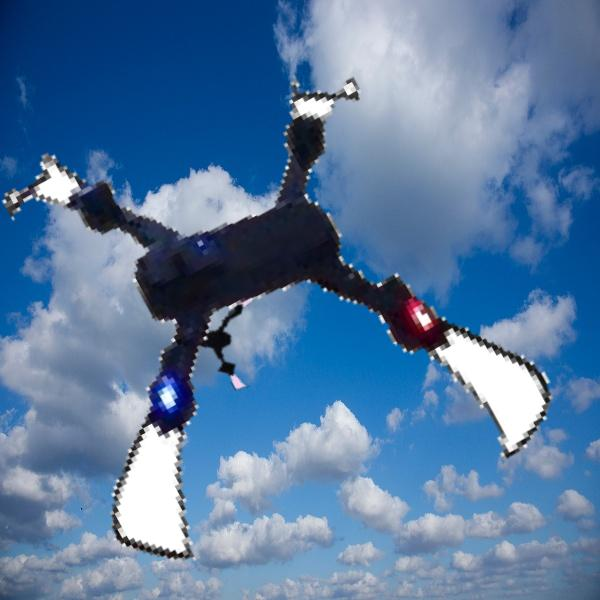drone: (13, 62, 521, 570), (153, 257, 296, 400)
